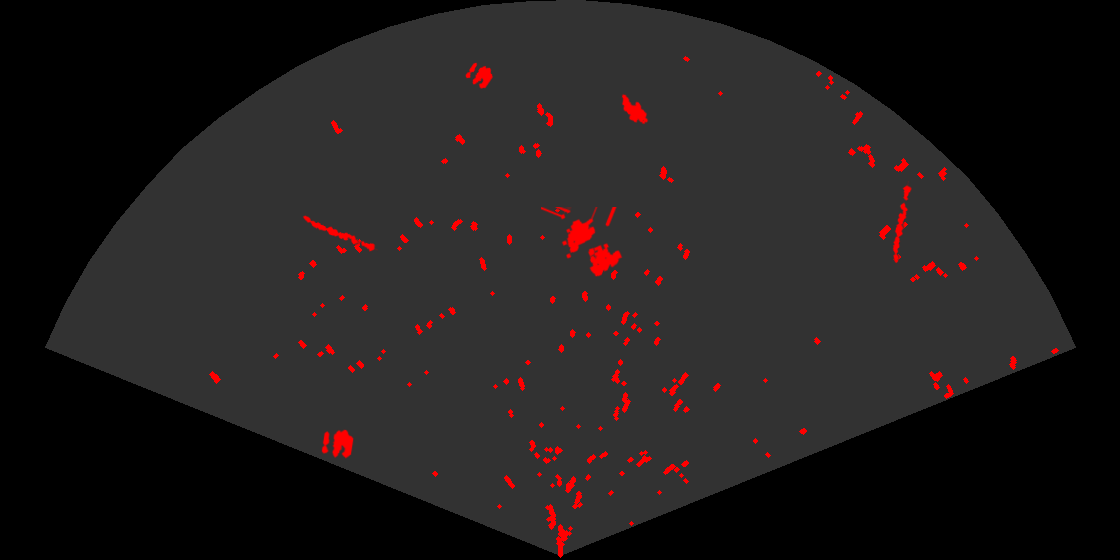AUV: (620, 92, 650, 126)
ball: (320, 428, 355, 460), (464, 61, 495, 90)
cage: (541, 207, 624, 278)
chain: (301, 214, 378, 253), (891, 181, 913, 265)
